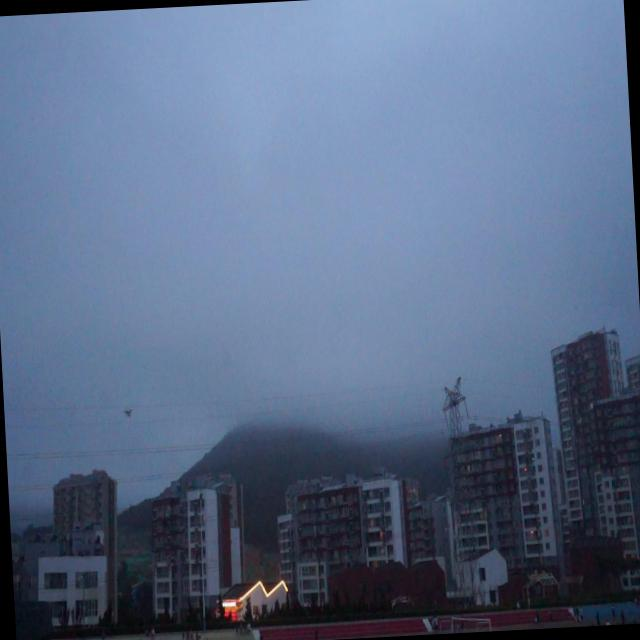drone: (122, 402, 136, 420)
